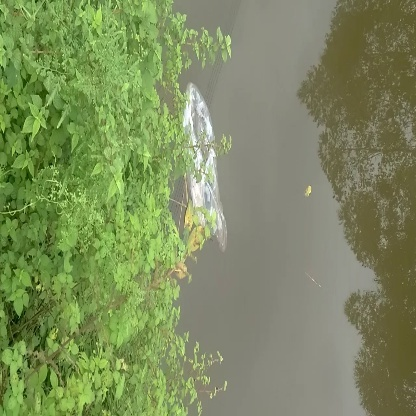plastic-bag: (179, 83, 244, 250)
